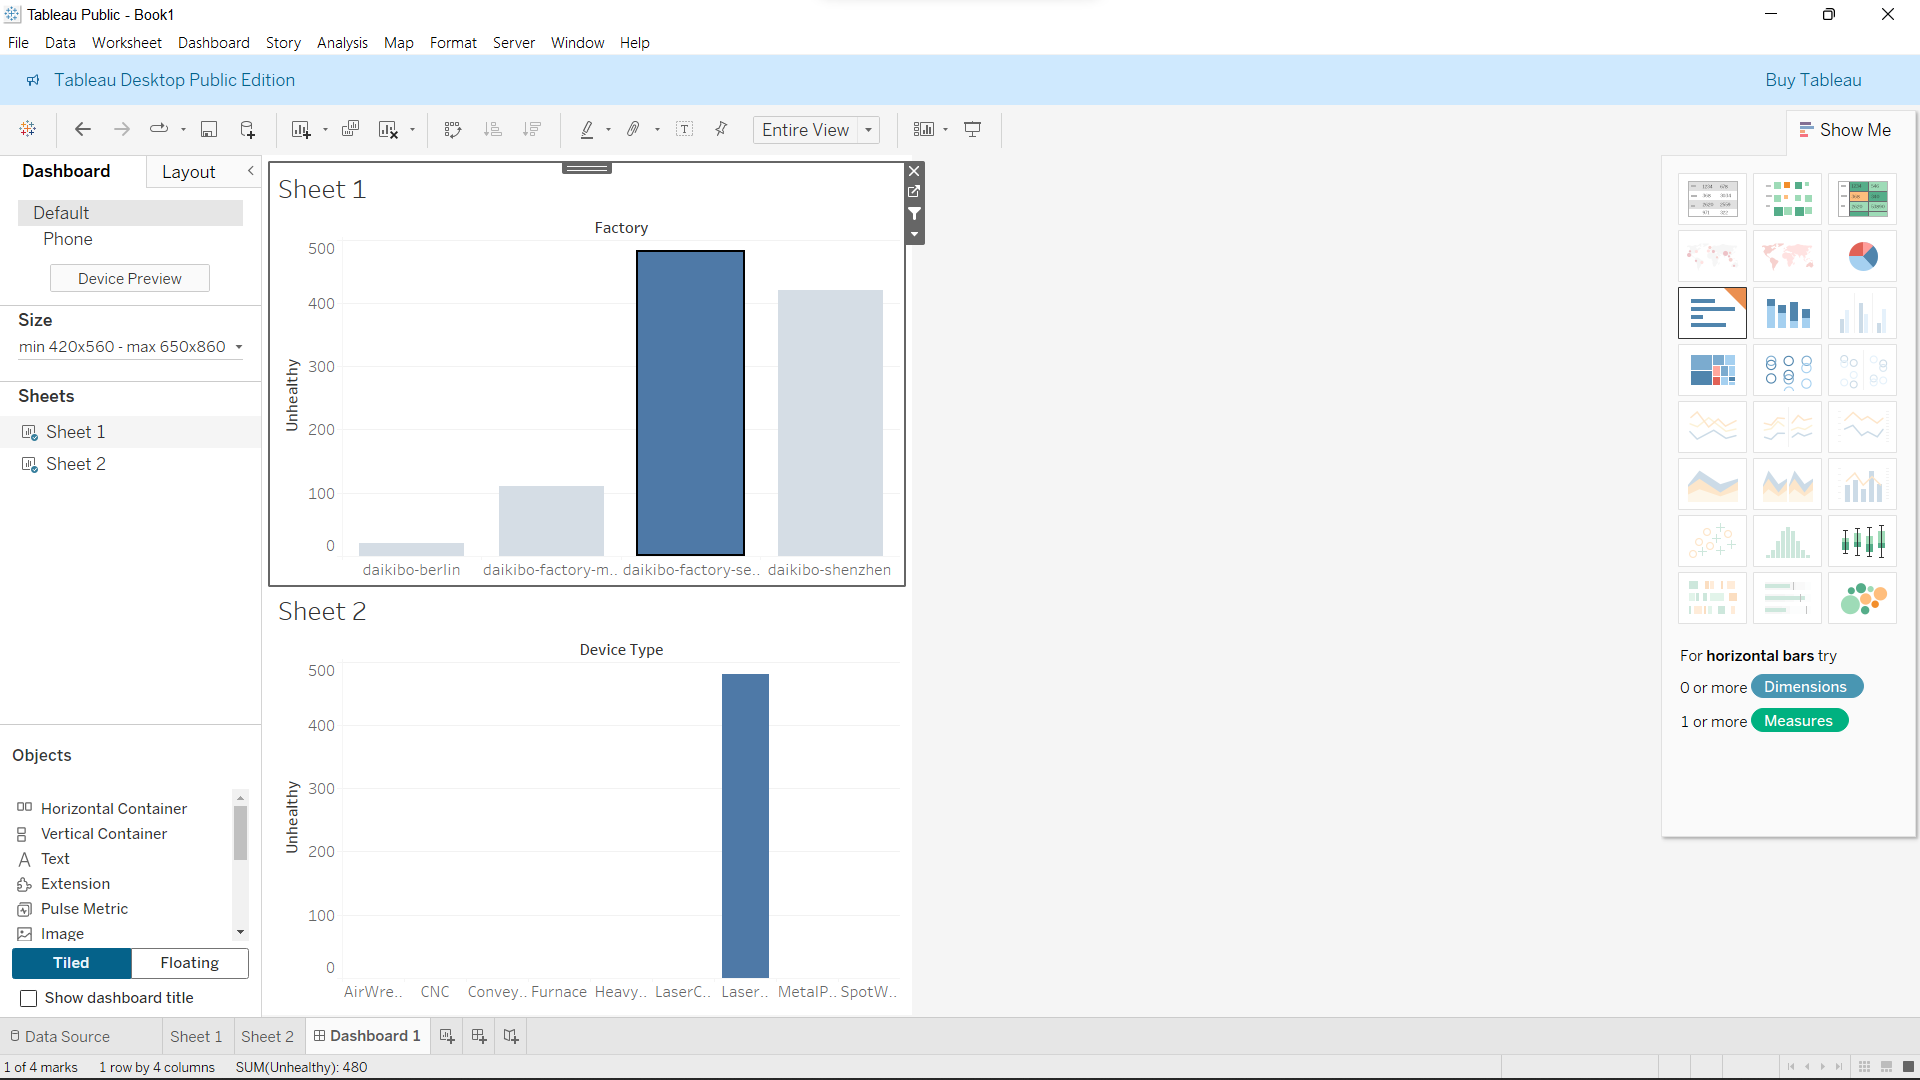

The dashboard page shown, as its layout file describes it:
{"tool":"tableau","page":{"name":"Dashboard 1","canvas":[1000,1000],"units":"permille","ordinal":0},"visuals":[{"type":"worksheet","title":"Sheet 1","mark":"Automatic","rows":["Calculation_1038924160903852032"],"cols":["factory"],"box":[5.9,9.3,988.1,490.7]},{"type":"worksheet","title":"Sheet 2","mark":"Automatic","rows":["Calculation_1038924160903852032"],"cols":["deviceType"],"box":[5.9,500,988.1,490.7]}]}

Visuals, with their boxes on the dashboard's canvas, which has no fixed pixel size, in thousandths of its width and height (x1, y1, x2, y2). These are canvas units, not pixel positions in the 1920x1080 screenshot, which may show the page scaled, cropped or inside an application window:
"Sheet 1" worksheet: bbox=[6, 9, 994, 500]
"Sheet 2" worksheet: bbox=[6, 500, 994, 991]
